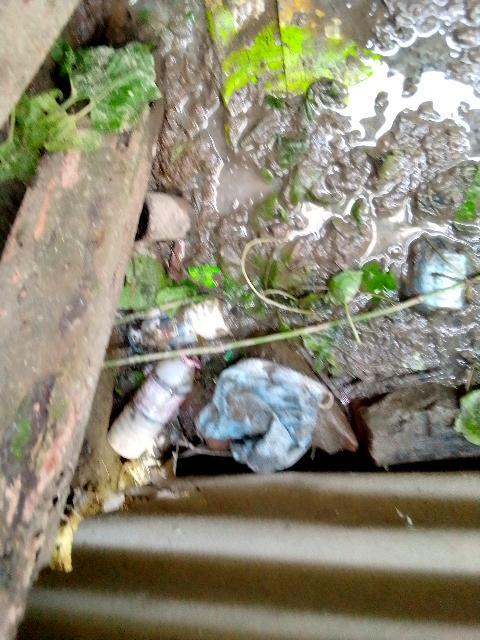mask: (188, 313, 315, 502)
